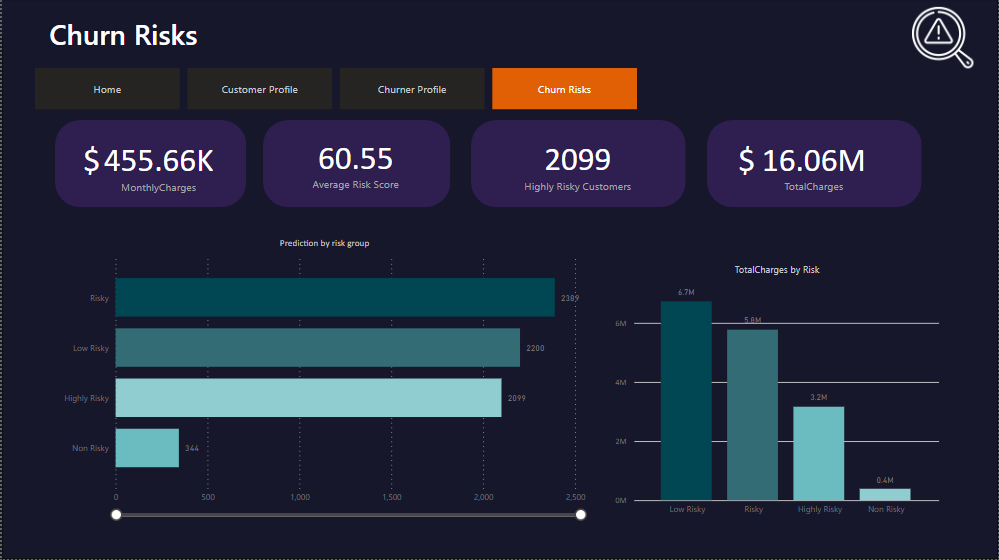

The page's visual inventory and layout, read from the dashboard file:
{"tool":"powerbi","page":{"name":"Churn Risks","canvas":[1280,720],"ordinal":3},"visuals":[{"type":"shape","box":[602.7,155.4,275.7,112.2],"z":0},{"type":"textbox","title":"Churn Risks","box":[0,20.6,311.8,57.7],"z":1000},{"type":"pageNavigator","box":[42.6,89.3,774.6,53.6],"z":2000},{"type":"card","fields":{"Values":["CountNonNull(Telco-Churn-Predictions.Risk)"]},"box":[640.5,159.5,200,104.1],"z":3000},{"type":"clusteredBarChart","title":"Prediction by risk group","fields":{"Category":["Telco-Churn-Predictions.Risk"],"Y":["CountNonNull(Telco-Churn-Predictions.Risk)"]},"box":[67.6,305.4,693.2,367.6],"z":4000},{"type":"clusteredColumnChart","fields":{"Category":["Telco-Churn-Predictions.Risk"],"Y":["Sum(Telco-Churn-Predictions.TotalCharges)"]},"box":[782.4,339.2,427,333.8],"z":5000},{"type":"textbox","box":[380.8,162.4,52.7,71.6],"z":6000},{"type":"shape","box":[906.8,155.4,275.7,112.2],"z":7000},{"type":"textbox","box":[920.3,174.3,52.7,73],"z":8000},{"type":"card","fields":{"Values":["Sum(Telco-Churn-Predictions.TotalCharges)"]},"box":[955.4,162.2,177,100],"z":9000},{"type":"shape","box":[335.1,155.4,240.5,112.2],"z":10000},{"type":"card","fields":{"Values":["Avg(Telco-Churn-Predictions.Predictions)"]},"box":[350.1,163.8,210.4,91.8],"z":11000},{"type":"shape","box":[67.6,155.4,245.9,112.2],"z":12000},{"type":"textbox","box":[78.4,174.3,52.7,71.6],"z":13000},{"type":"card","fields":{"Values":["Sum(Telco-Churn-Predictions.MonthlyCharges)"]},"box":[91.9,158.1,220.3,109.5],"z":14000},{"type":"image","box":[1160.8,5.4,97.3,89.2],"z":15000}]}

Visuals, with their boxes in screenshot pixels (x1, y1, x2, y2), scaled from the page's 1280x720 canvas onto the 999x560 screenshot:
shape: {"left": 470, "top": 121, "right": 686, "bottom": 208}
"Churn Risks" textbox: {"left": 0, "top": 16, "right": 243, "bottom": 61}
pageNavigator: {"left": 33, "top": 69, "right": 638, "bottom": 111}
card - CountNonNull(Telco-Churn-Predictions.Risk): {"left": 500, "top": 124, "right": 656, "bottom": 205}
"Prediction by risk group" clusteredBarChart: {"left": 53, "top": 238, "right": 594, "bottom": 523}
clusteredColumnChart - Telco-Churn-Predictions.Risk x Sum(Telco-Churn-Predictions.TotalCharges): {"left": 611, "top": 264, "right": 944, "bottom": 523}
textbox: {"left": 297, "top": 126, "right": 338, "bottom": 182}
shape: {"left": 708, "top": 121, "right": 923, "bottom": 208}
textbox: {"left": 718, "top": 136, "right": 759, "bottom": 192}
card - Sum(Telco-Churn-Predictions.TotalCharges): {"left": 746, "top": 126, "right": 884, "bottom": 204}
shape: {"left": 262, "top": 121, "right": 449, "bottom": 208}
card - Avg(Telco-Churn-Predictions.Predictions): {"left": 273, "top": 127, "right": 437, "bottom": 199}
shape: {"left": 53, "top": 121, "right": 245, "bottom": 208}
textbox: {"left": 61, "top": 136, "right": 102, "bottom": 191}
card - Sum(Telco-Churn-Predictions.MonthlyCharges): {"left": 72, "top": 123, "right": 244, "bottom": 208}
image: {"left": 906, "top": 4, "right": 982, "bottom": 74}
